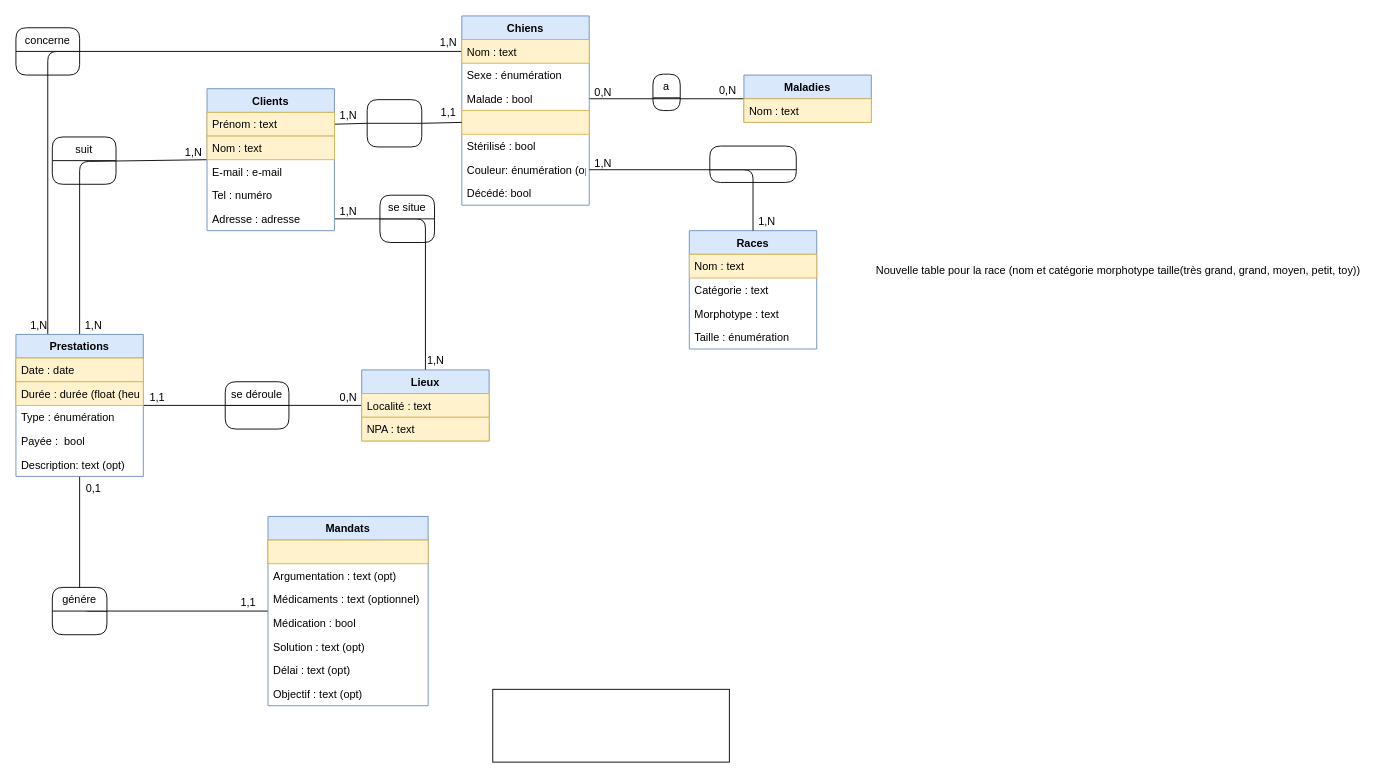
Image size: 1384x778. Some labels were removed from this diagram. Each missing label, with the centre of its shape:
"fait partie" goes at (x=752, y=163).
"MCD What The Dog: rapport de consultation Version 1.0 Guilain Mbayo 19.05.2020" goes at (x=610, y=725).
"Naissance : date" goes at (x=525, y=122).
"possède" goes at (x=394, y=123).
"Situation : text" goes at (x=347, y=551).
